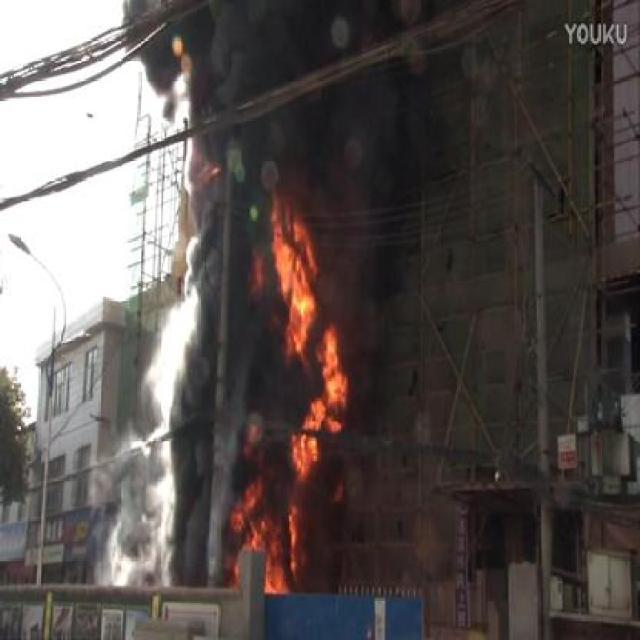Fire: (226, 177, 354, 598)
Smoke: (137, 2, 418, 170), (156, 183, 226, 596)
